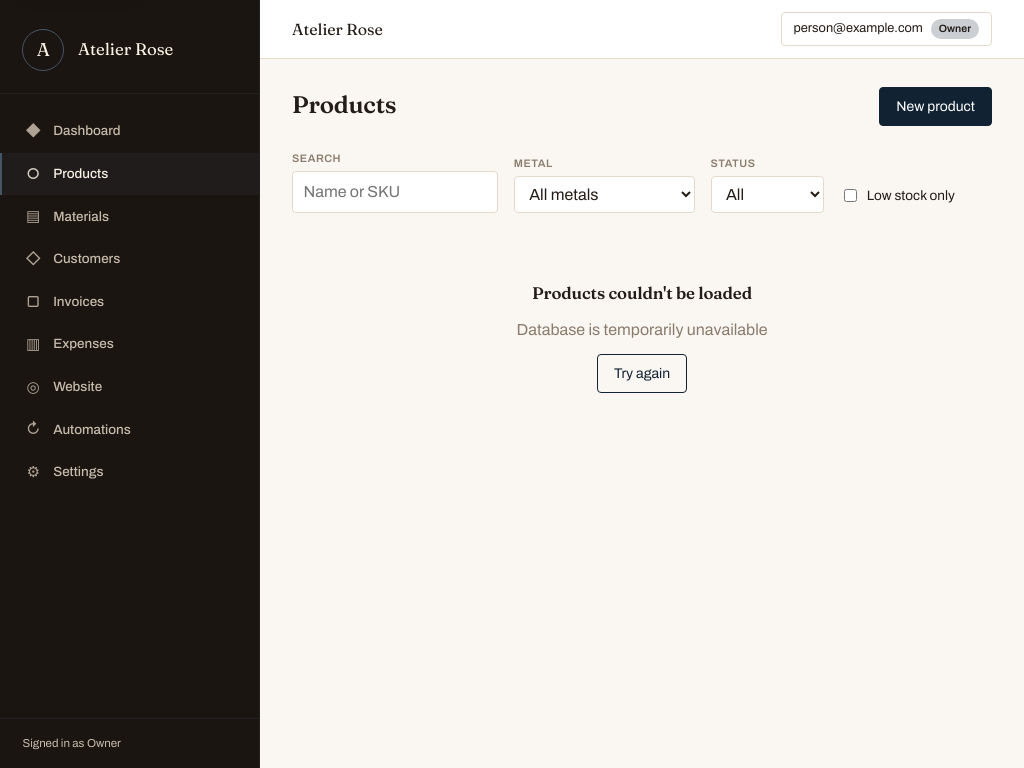
Test case: products list › shows the error with a retry
The width and height of the screenshot is (1024, 768).
Expected: the message shows "Database is temporarily unavailable", left=516, top=321, right=768, bottom=338
What coordinates should you click on to do the following:
click the button "Try again"
I would click on:
 (642, 374)
Its box is left=597, top=354, right=687, bottom=393.
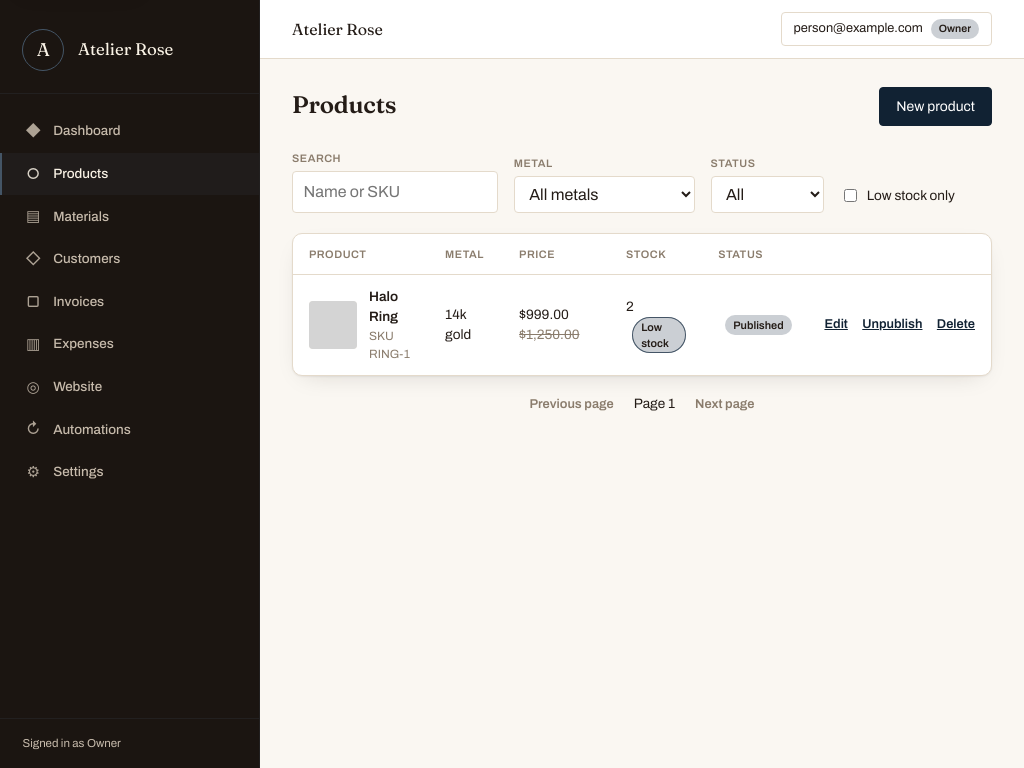
Now the link "Halo Ring" is shown, box left=369, top=289, right=398, bottom=324
